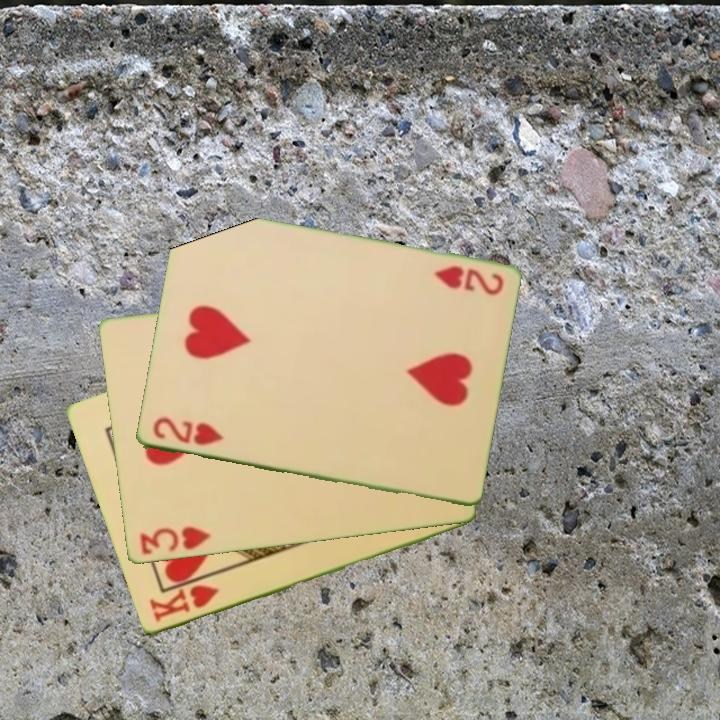2h: (431, 262, 506, 299), (148, 414, 227, 449)
3h: (136, 523, 213, 558)
Kh: (145, 581, 222, 626)
